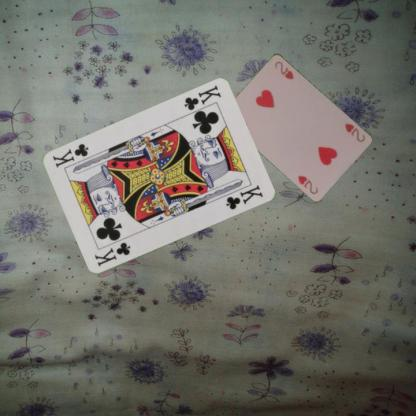2h: (342, 121, 366, 143)
Kc: (181, 83, 222, 112), (91, 240, 132, 268)
